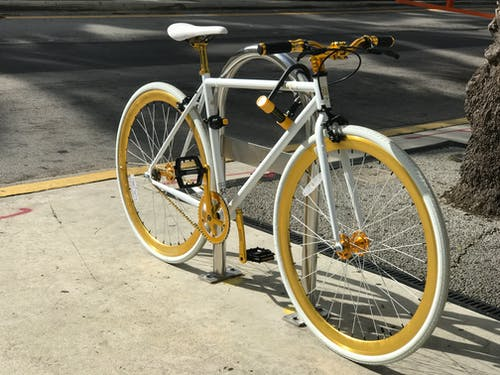bicycle: (113, 16, 457, 370)
